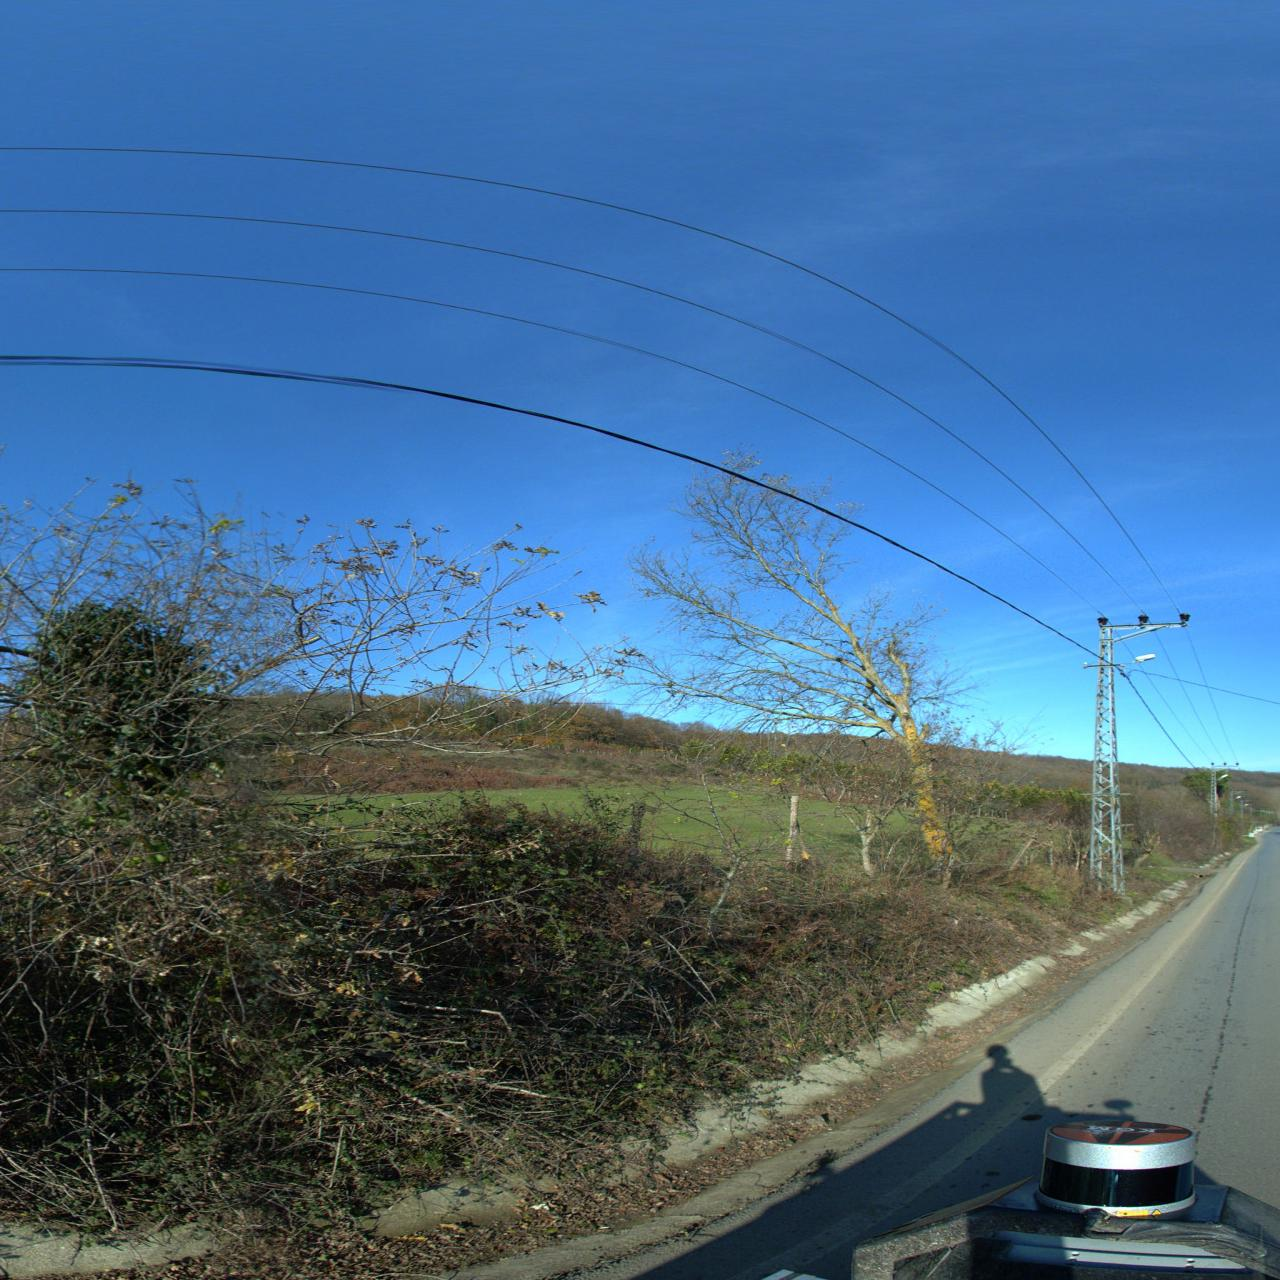Utility Pole Information Plate: (1112, 797, 1116, 804)
